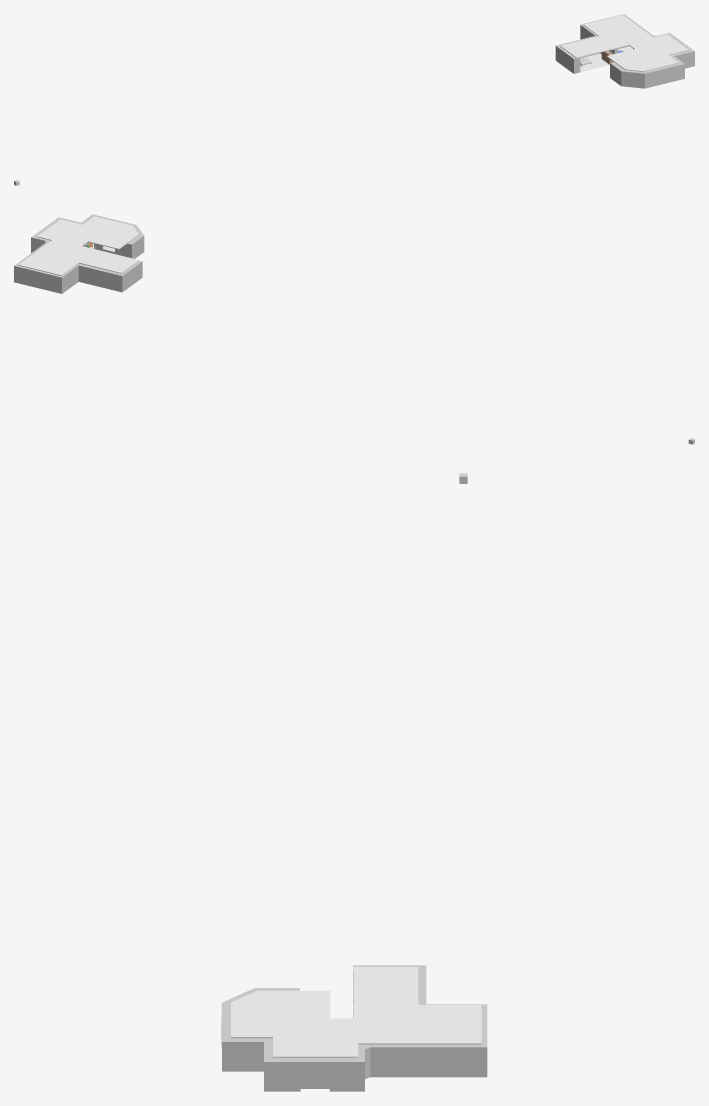
Rendered from house.fbx.
The picture shows the model from 3 angles, top to bottom: view 1: azimuth 30°, elevation 25°; view 2: azimuth 150°, elevation 25°; view 3: azimuth 270°, elevation 25°; orthographic projection. The views are drawn at different scales.
Visible parts, largest first — view 1: path71.001, rect72, path71; view 2: path71.001, rect72; view 3: path71.001, rect72.
Boxes of the visible parts, x1,y1,x2,y2 form: path71.001: (560, 15, 688, 71); rect72: (555, 14, 694, 88); path71: (580, 46, 632, 72); path71.001: (18, 216, 139, 275); rect72: (14, 214, 144, 293); path71.001: (231, 967, 481, 1057); rect72: (221, 965, 487, 1091).
Size of the model in its own units: 17642 by 467 by 3218.
